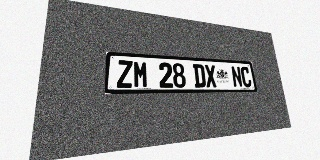2: (159, 62, 173, 88)
8: (172, 63, 186, 88)
C: (240, 66, 252, 87)
D: (193, 64, 206, 87)
M: (133, 61, 148, 88)
N: (231, 66, 243, 87)
X: (204, 64, 217, 87)
Z: (117, 60, 133, 88)
